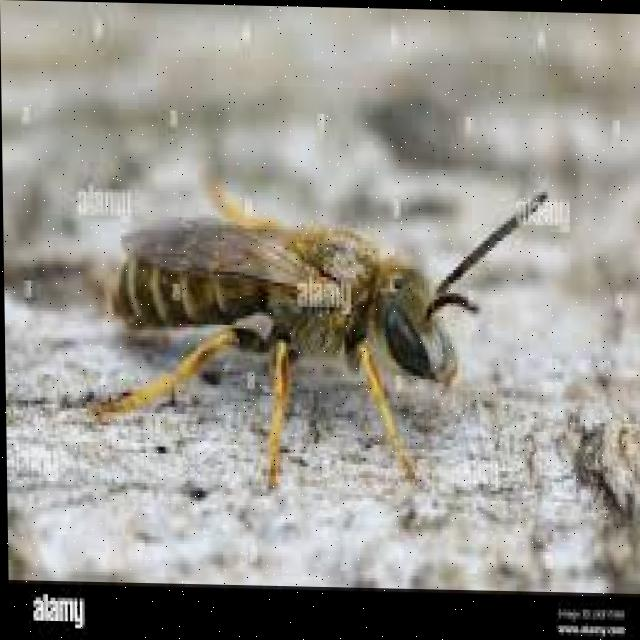Seladonia: (96, 131, 481, 468)
